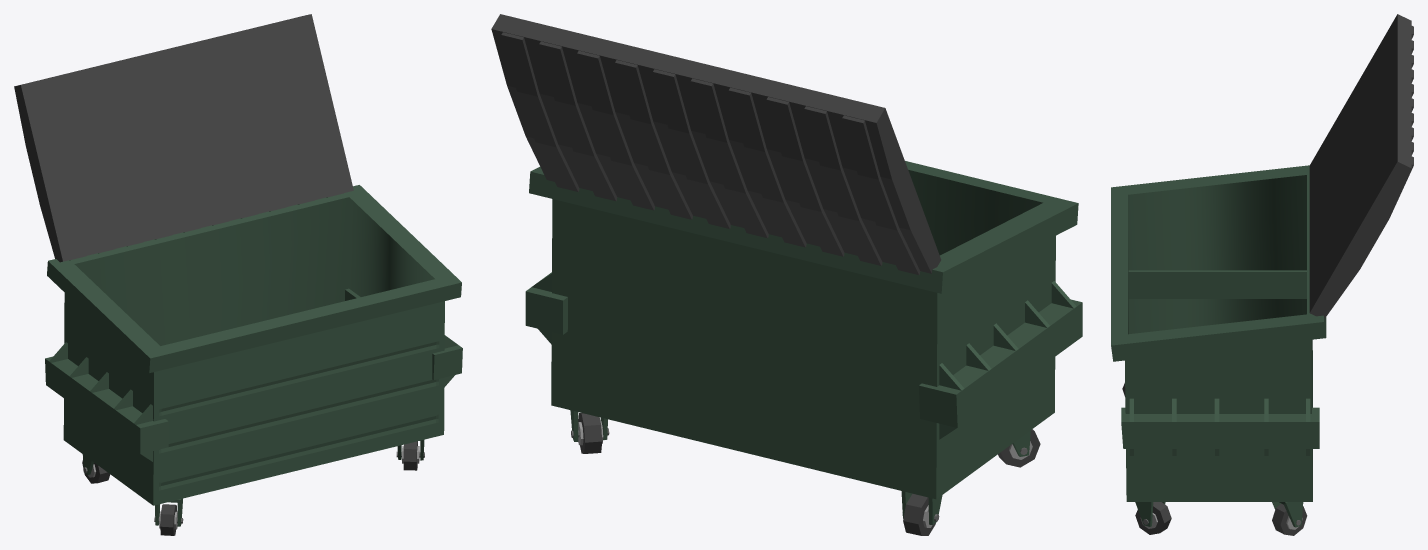
The model's file is Dumpster_fbx.fbx.
3 renders of one model, left to right at view 1: azimuth 30°, elevation 25°; view 2: azimuth 150°, elevation 25°; view 3: azimuth 270°, elevation 25°, orthographic. The views are drawn at different scales.
Parts seen in each view (by area): view 1: Dumpster, Top; view 2: Dumpster, Top; view 3: Dumpster, Top.
Boxes of the visible parts, x1,y1,x2,y2 form: Dumpster: [45, 185, 462, 535]; Top: [14, 14, 353, 262]; Dumpster: [525, 161, 1082, 535]; Top: [491, 14, 941, 274]; Dumpster: [1111, 165, 1326, 535]; Top: [1309, 14, 1413, 318].
Size of the model in its own units: 272 by 293 by 212.
